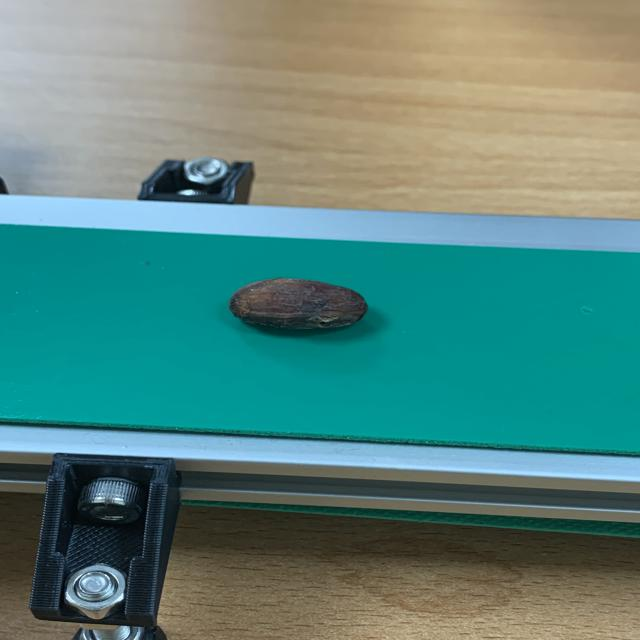Fine_cocoabeans: (160, 242, 440, 383)
